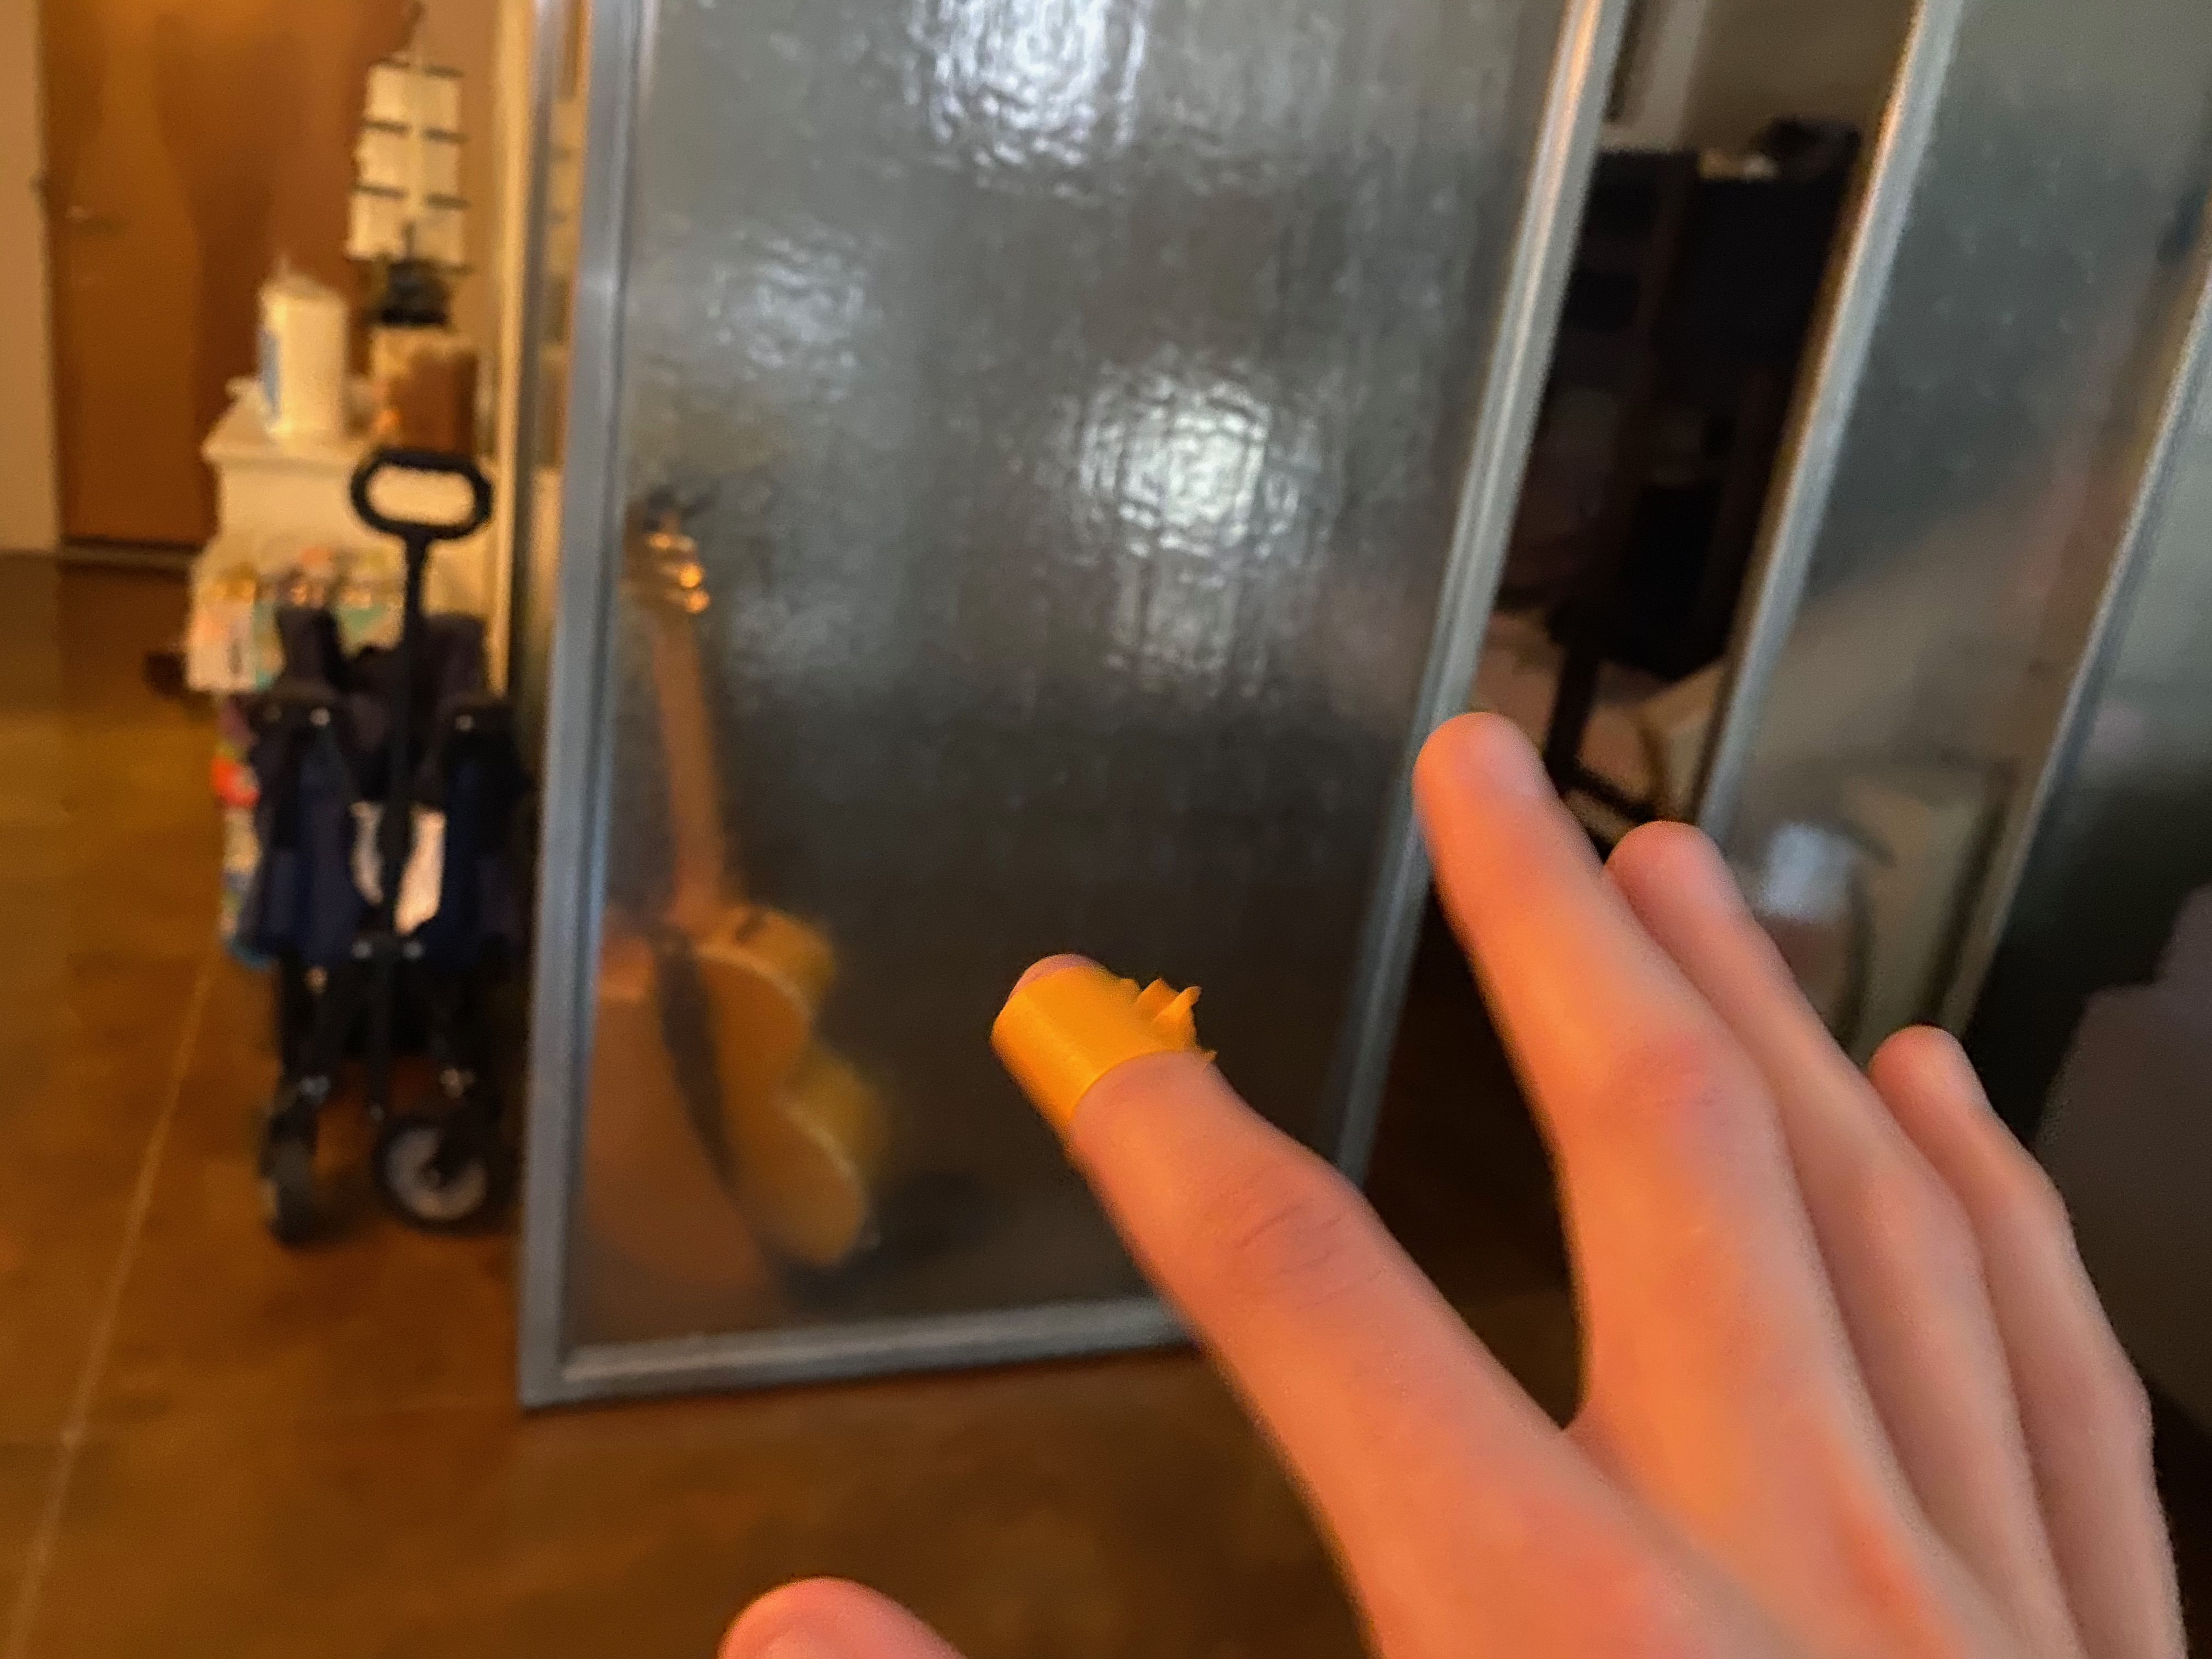fingertip: (923, 939, 1259, 1161)
